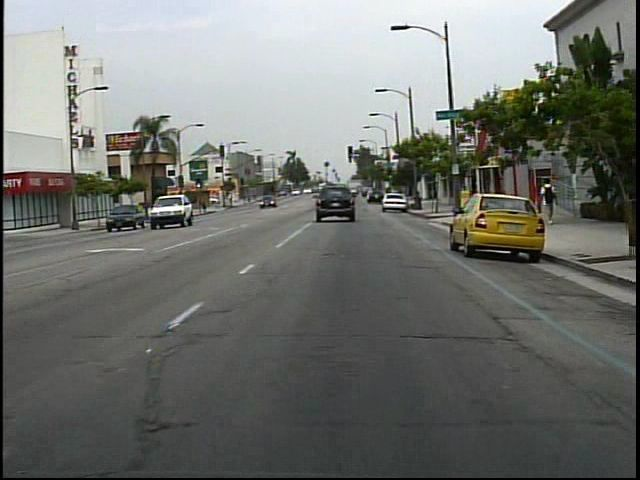person: (539, 171, 562, 227)
